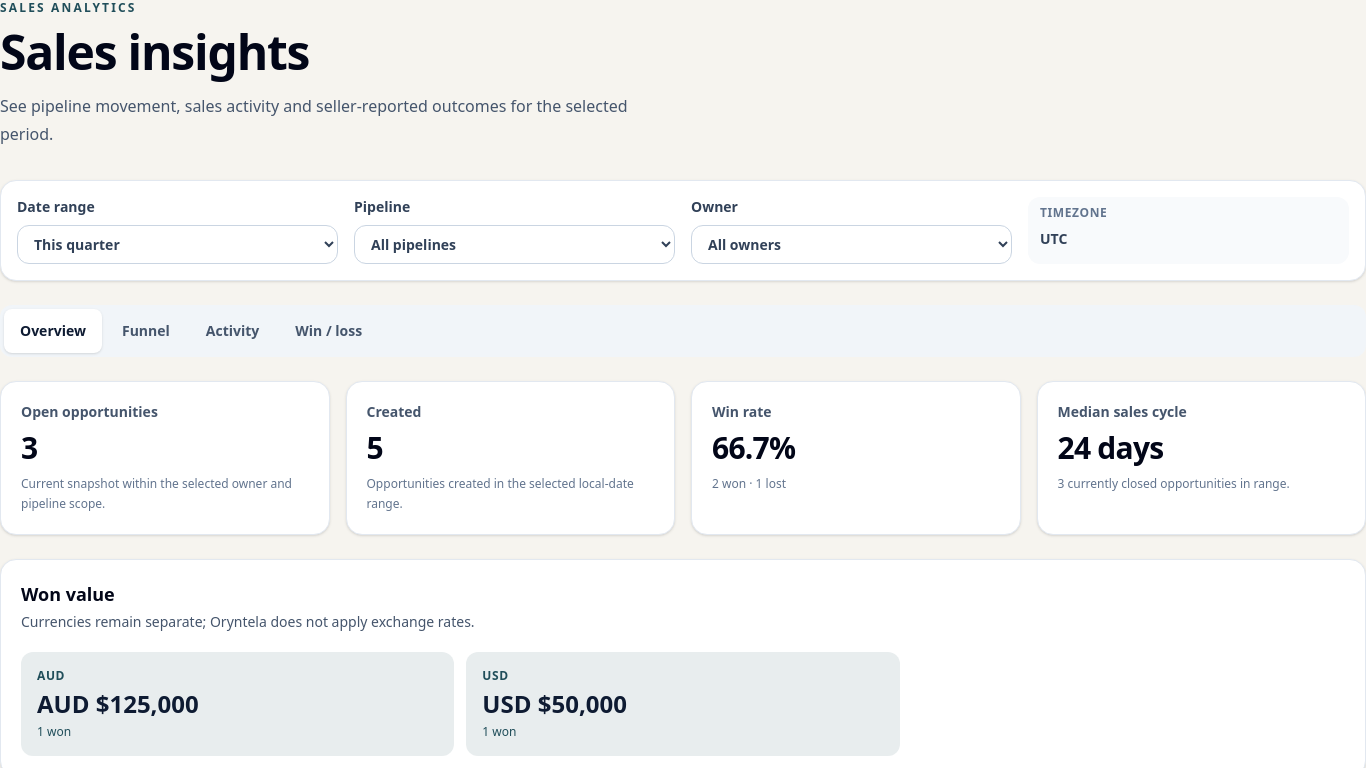
Test: sales insights › asks for a pipeline only when more than one is available
Expected: the text "Open opportunities" is shown, [21,402,158,421]
Click the button "Funnel": [146, 331] box [106,309,186,353]
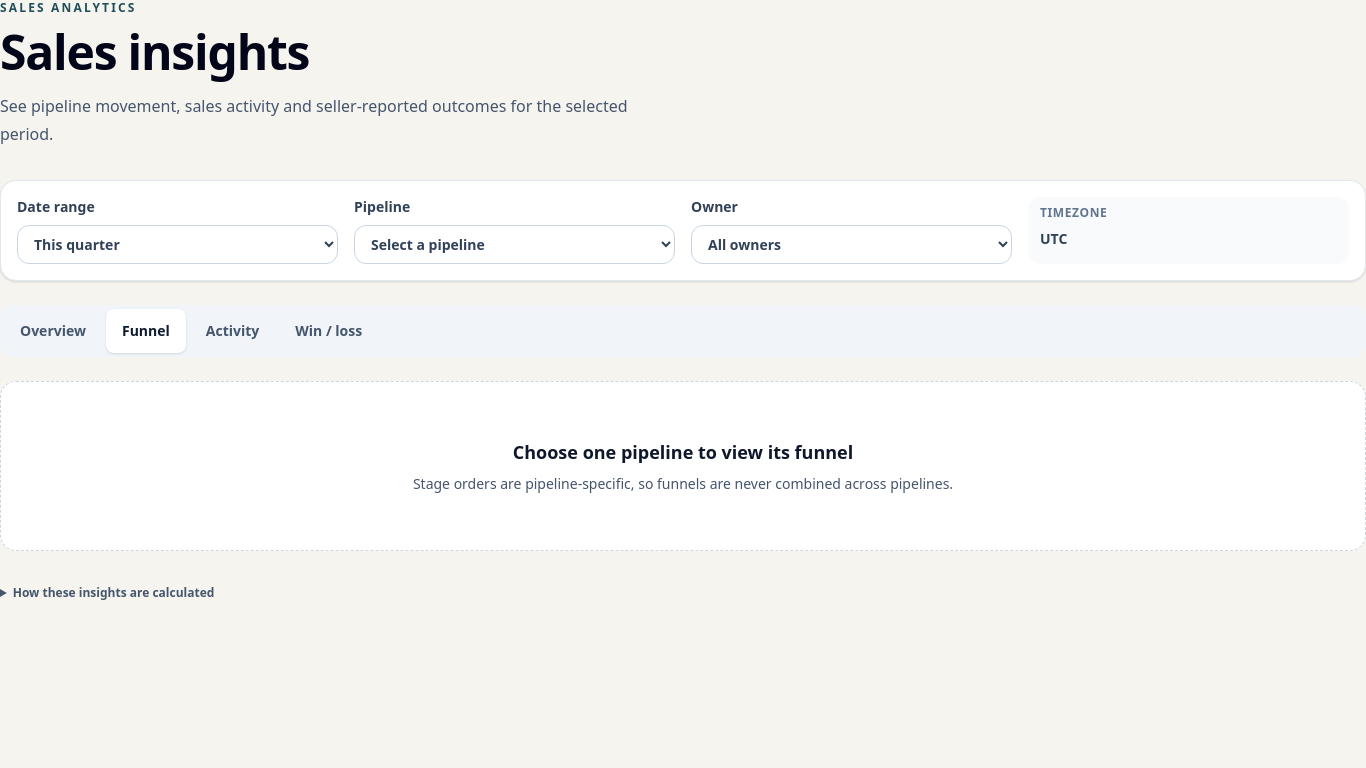
Result: the heading "Choose one pipeline to view its funnel" is shown at [513,440,853,464]
